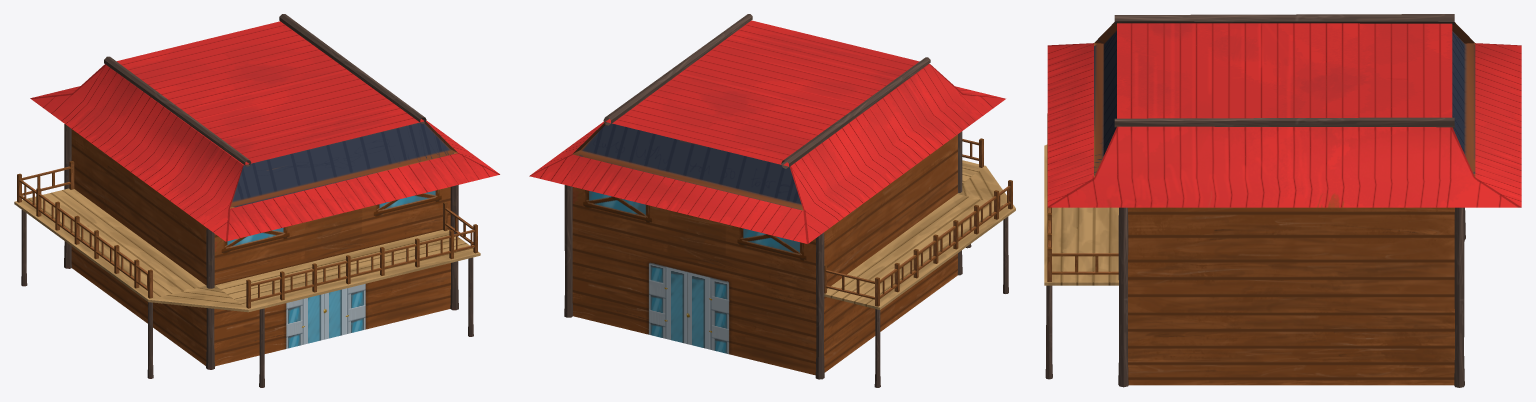
Rendered from beachhouse.FBX.
The picture shows the model from 3 angles, left to right: view 1: azimuth 30°, elevation 25°; view 2: azimuth 150°, elevation 25°; view 3: azimuth 270°, elevation 25°; orthographic projection. The views are drawn at different scales.
Visible parts, largest first — view 1: Box001; view 2: Box001; view 3: Box001.
Part boxes in pixels (x1,y1,x2,y2): Box001: [14, 14, 499, 387]; Box001: [529, 14, 1015, 387]; Box001: [1044, 14, 1521, 387].
Bounding box in the file's own units: 697 × 748 × 428.
